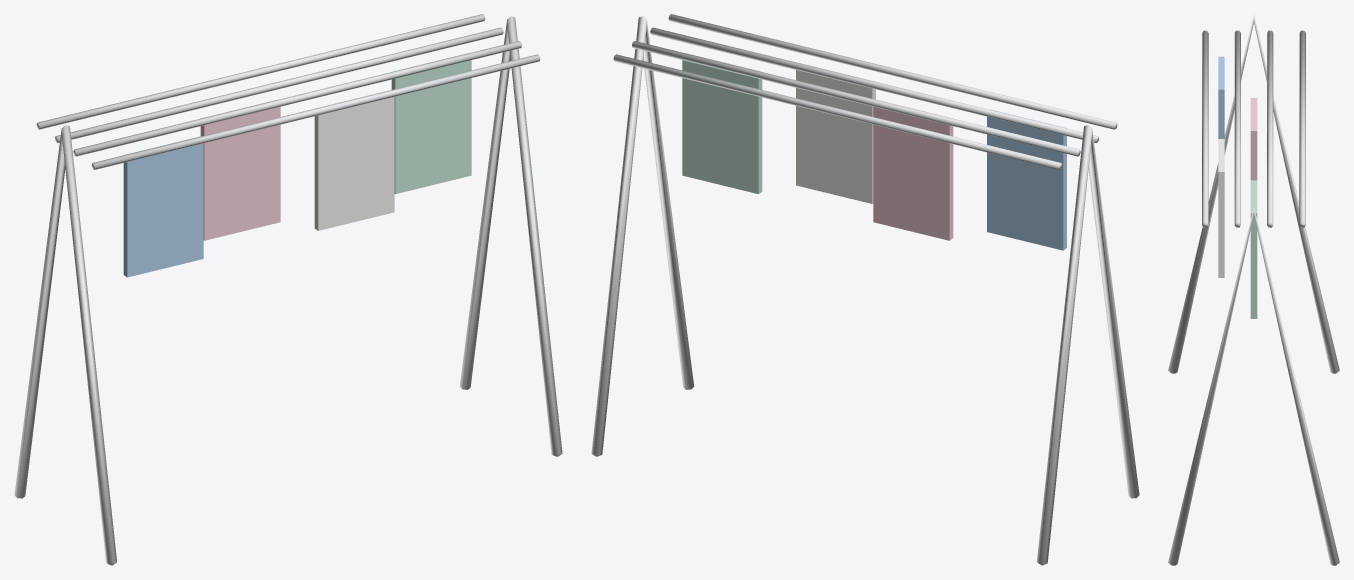
Rendered from varal.glb.
The picture shows the model from 3 angles, left to right: view 1: azimuth 30°, elevation 25°; view 2: azimuth 150°, elevation 25°; view 3: azimuth 270°, elevation 25°; orthographic projection. The views are drawn at different scales.
Visible parts, largest first — view 1: varal; view 2: varal; view 3: varal.
Boxes of the visible parts, x1=… form: varal: x1=14, y1=14, x2=562, y2=565; varal: x1=591, y1=14, x2=1139, y2=565; varal: x1=1168, y1=15, x2=1339, y2=565.
Bounding box in the file's own units: 1.43 × 1.22 × 0.5294.
